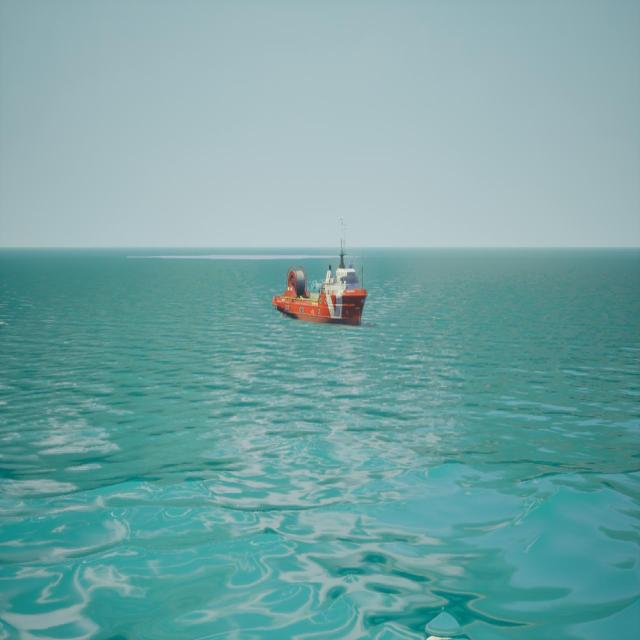tug boat: (275, 219, 368, 328)
